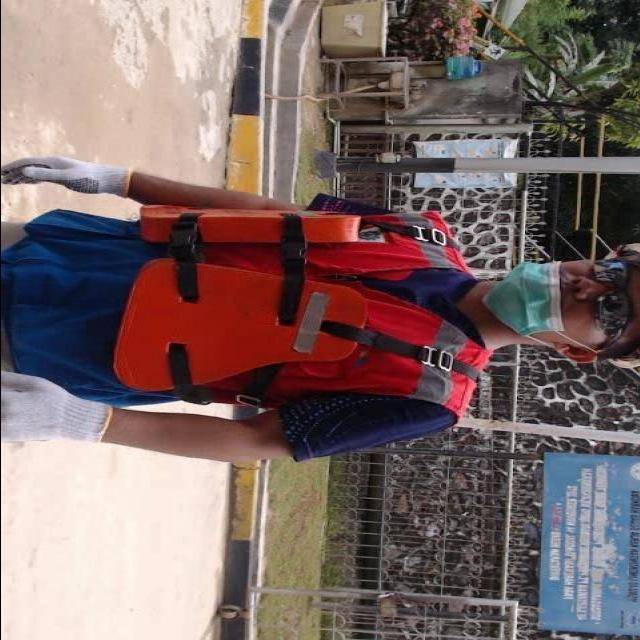jacket: (107, 166, 494, 454)
